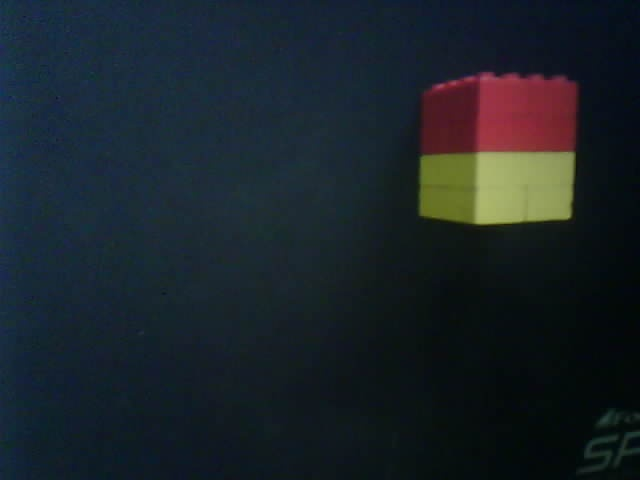lego: (416, 72, 579, 228)
